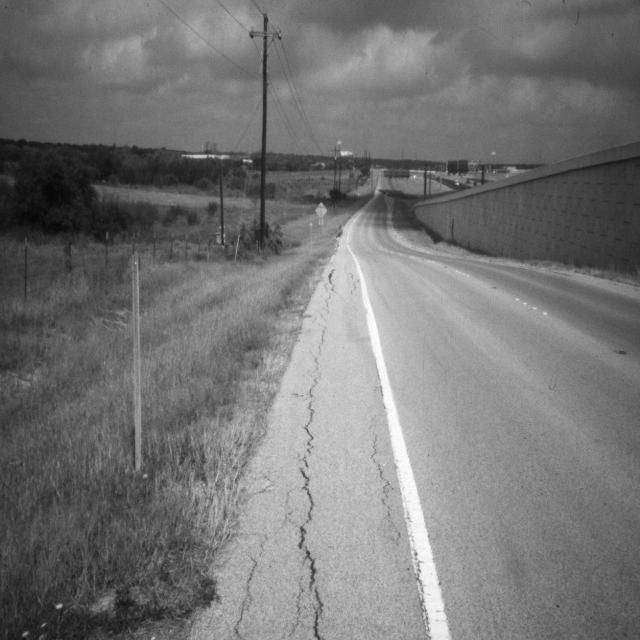Pothole: (176, 232, 345, 640)
